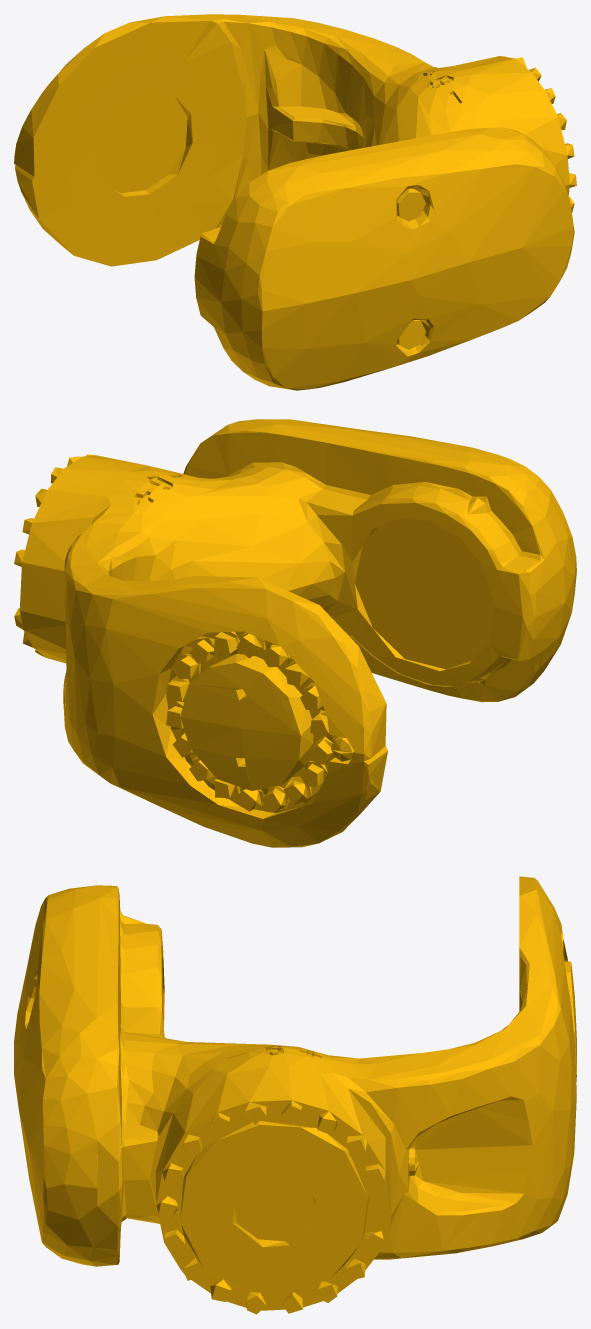
3 views of the same model, one above another, from view 1: azimuth 30°, elevation 25°; view 2: azimuth 150°, elevation 25°; view 3: azimuth 270°, elevation 25° (orthographic). The views are drawn at different scales.
Parts seen in each view (by area): view 1: node0; view 2: node0; view 3: node0.
Boxes of the visible parts, x1,y1,x2,y2 form: node0: (14, 14, 576, 390); node0: (14, 419, 576, 847); node0: (14, 876, 576, 1314).
Bounding box in the file's own units: 0.2018 × 0.2008 × 0.1155.
